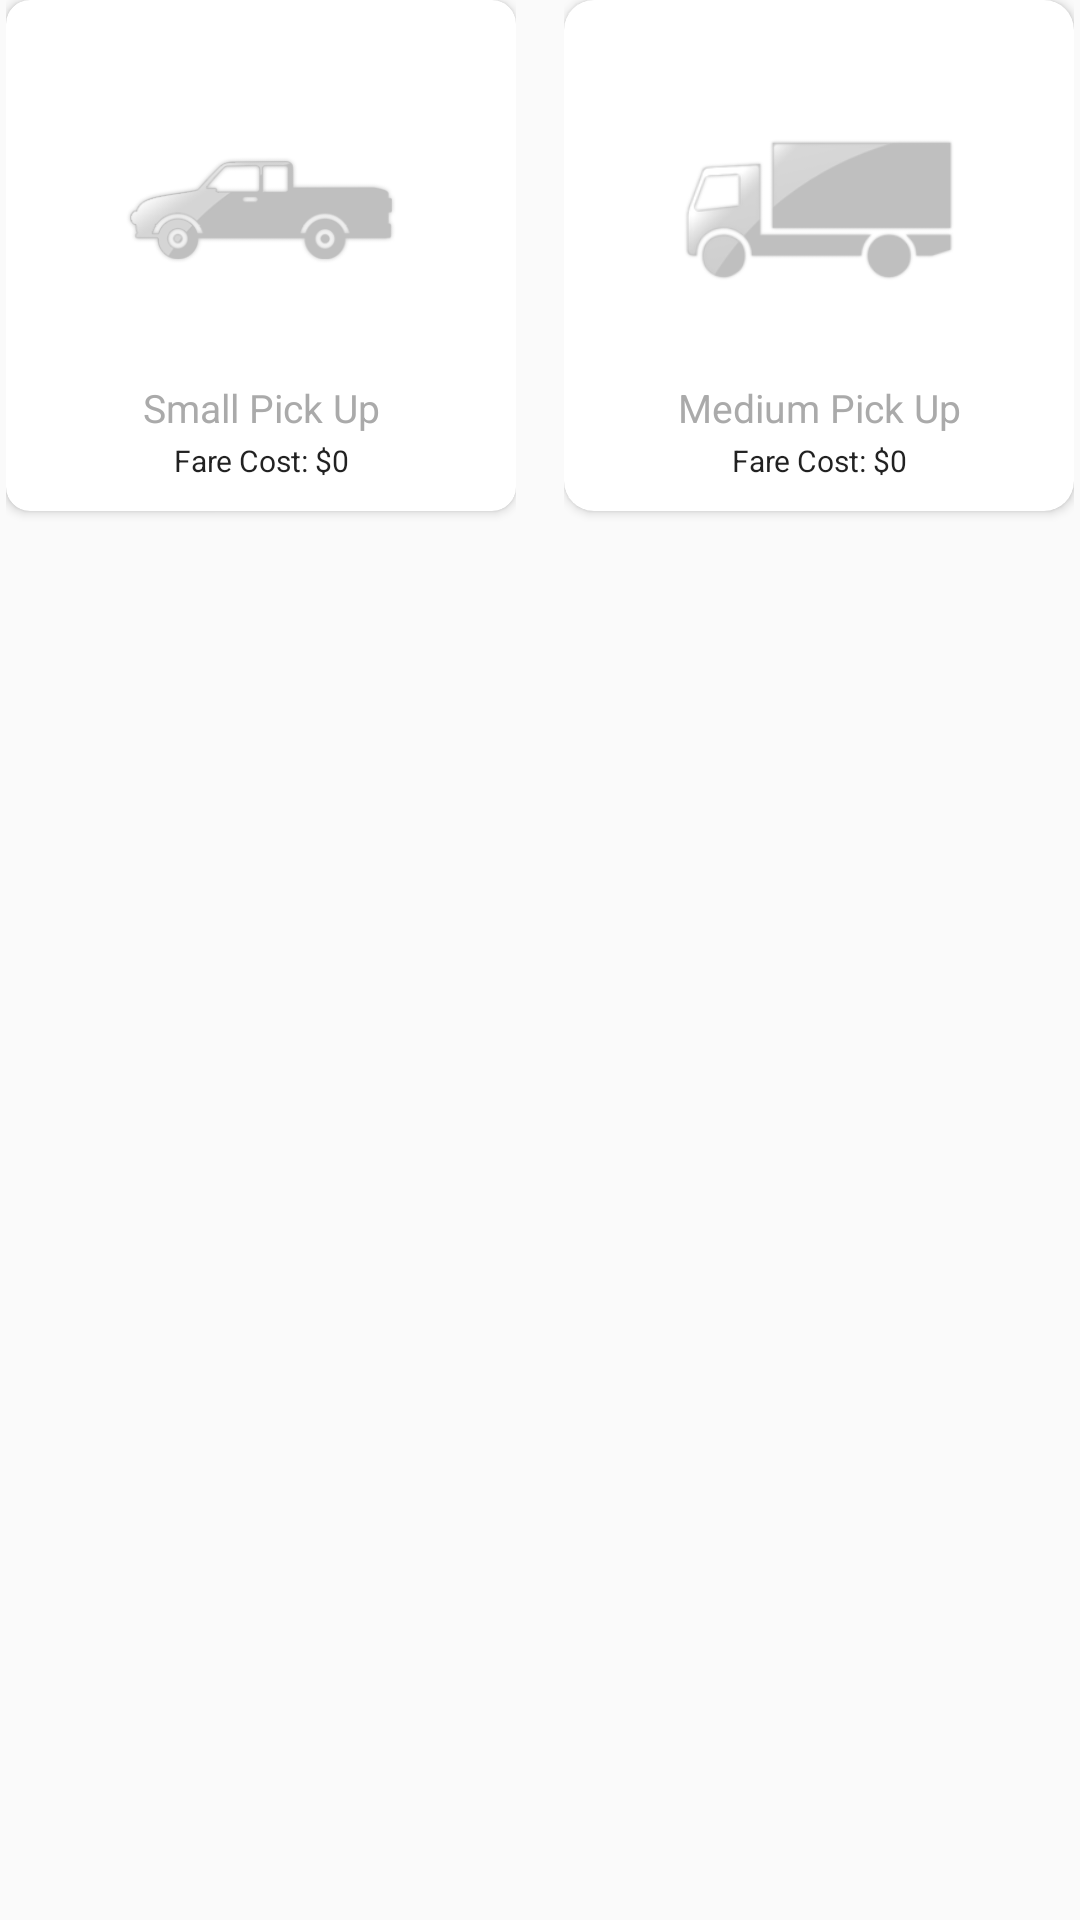

Locate icon controls on the screen. Image size 1080*1920, boxes as region(x1, y1, x2, y2).
de lg vehicle car: region(687, 142, 952, 278)
